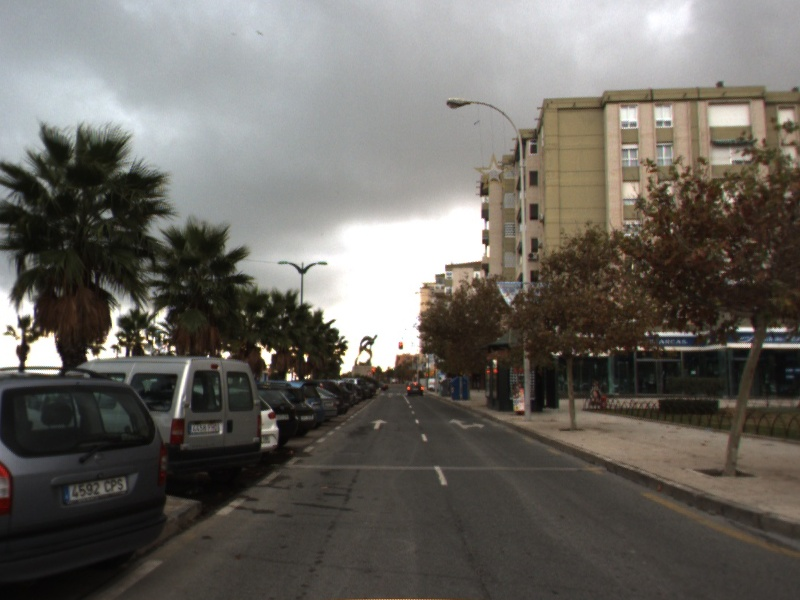STRAIGHT: (368, 418, 390, 431)
STRAIGHT_RIGHT: (447, 417, 487, 431)
